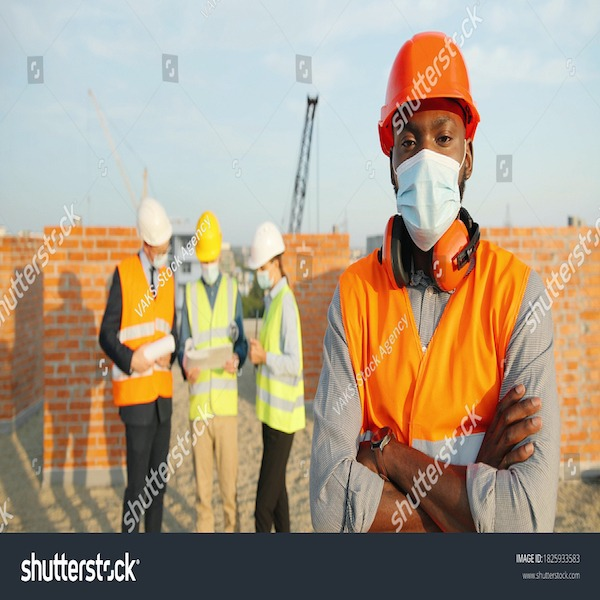helmet: (379, 27, 483, 126), (245, 220, 290, 271), (137, 194, 174, 248), (191, 210, 224, 266)
vest: (342, 240, 522, 529), (113, 259, 179, 406), (182, 271, 244, 417), (254, 276, 303, 443)
